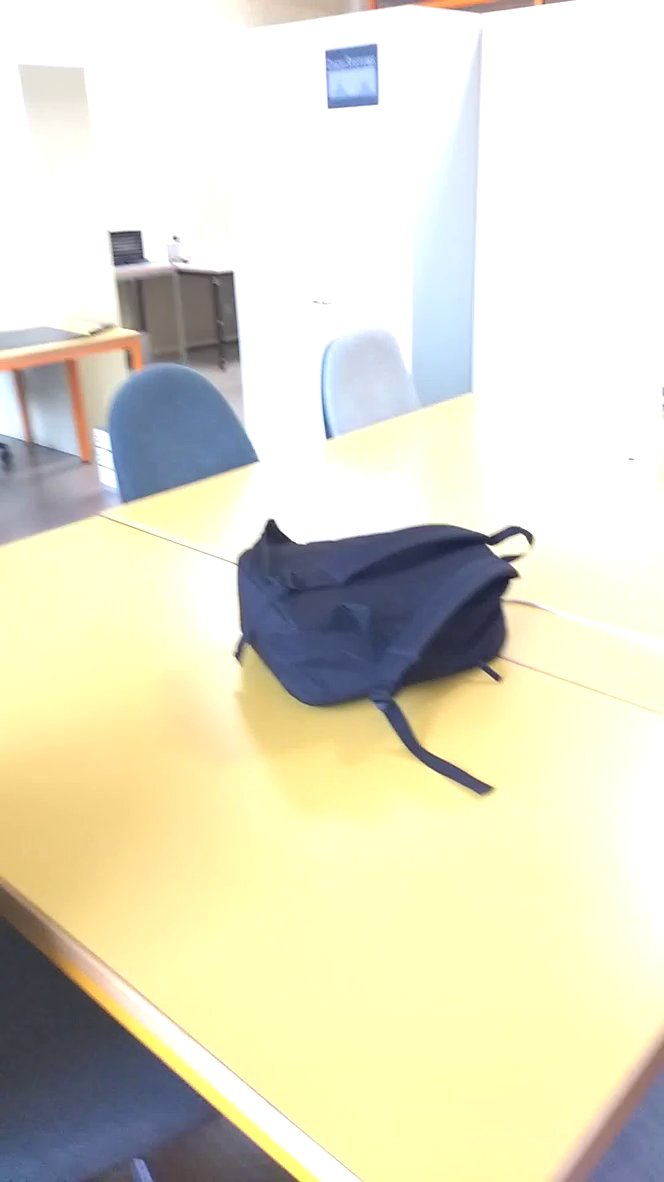bag: (196, 505, 559, 803)
chair: (101, 353, 274, 507), (302, 326, 436, 441)
